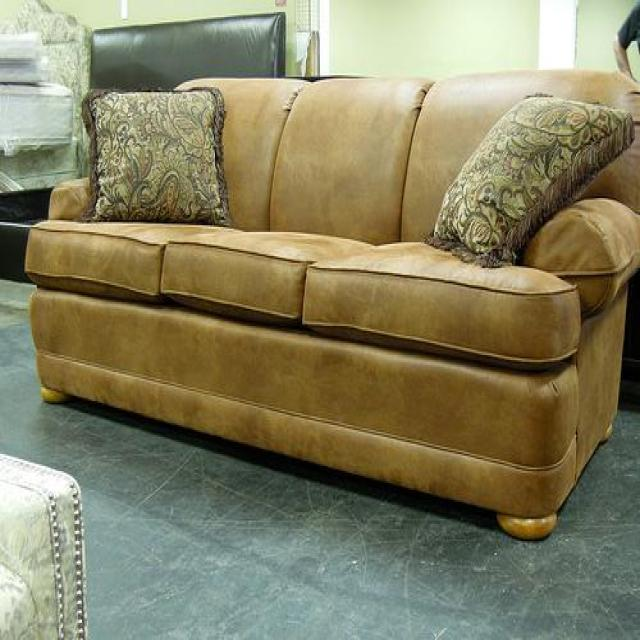sofa: (24, 75, 640, 544)
